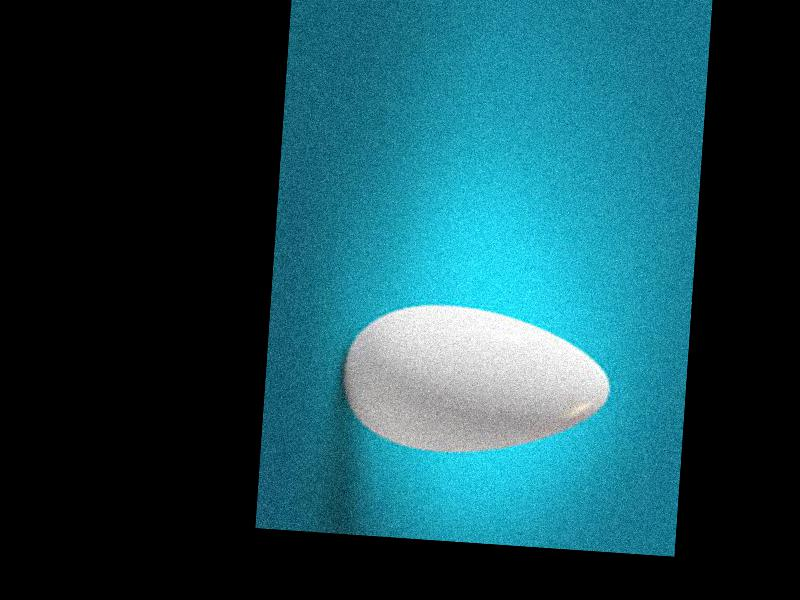Eggs: (338, 298, 612, 463)
